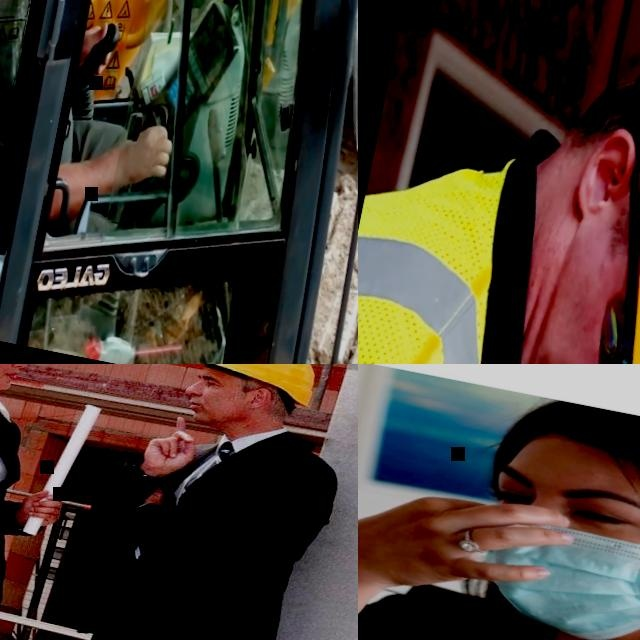Hardhat: (583, 0, 640, 364), (181, 364, 320, 407)
Mask: (468, 500, 640, 640)
NO-Hardhat: (499, 390, 640, 520)
NO-Mask: (510, 233, 634, 364), (183, 389, 256, 431), (0, 364, 23, 393)
NO-Safety Vest: (91, 418, 339, 640), (366, 581, 640, 640)
Person: (358, 0, 640, 364), (0, 364, 358, 640), (358, 364, 640, 640), (0, 0, 212, 292), (0, 364, 100, 640)
Safety Vest: (358, 128, 603, 364)
machinery: (0, 0, 358, 364), (54, 0, 358, 235)
